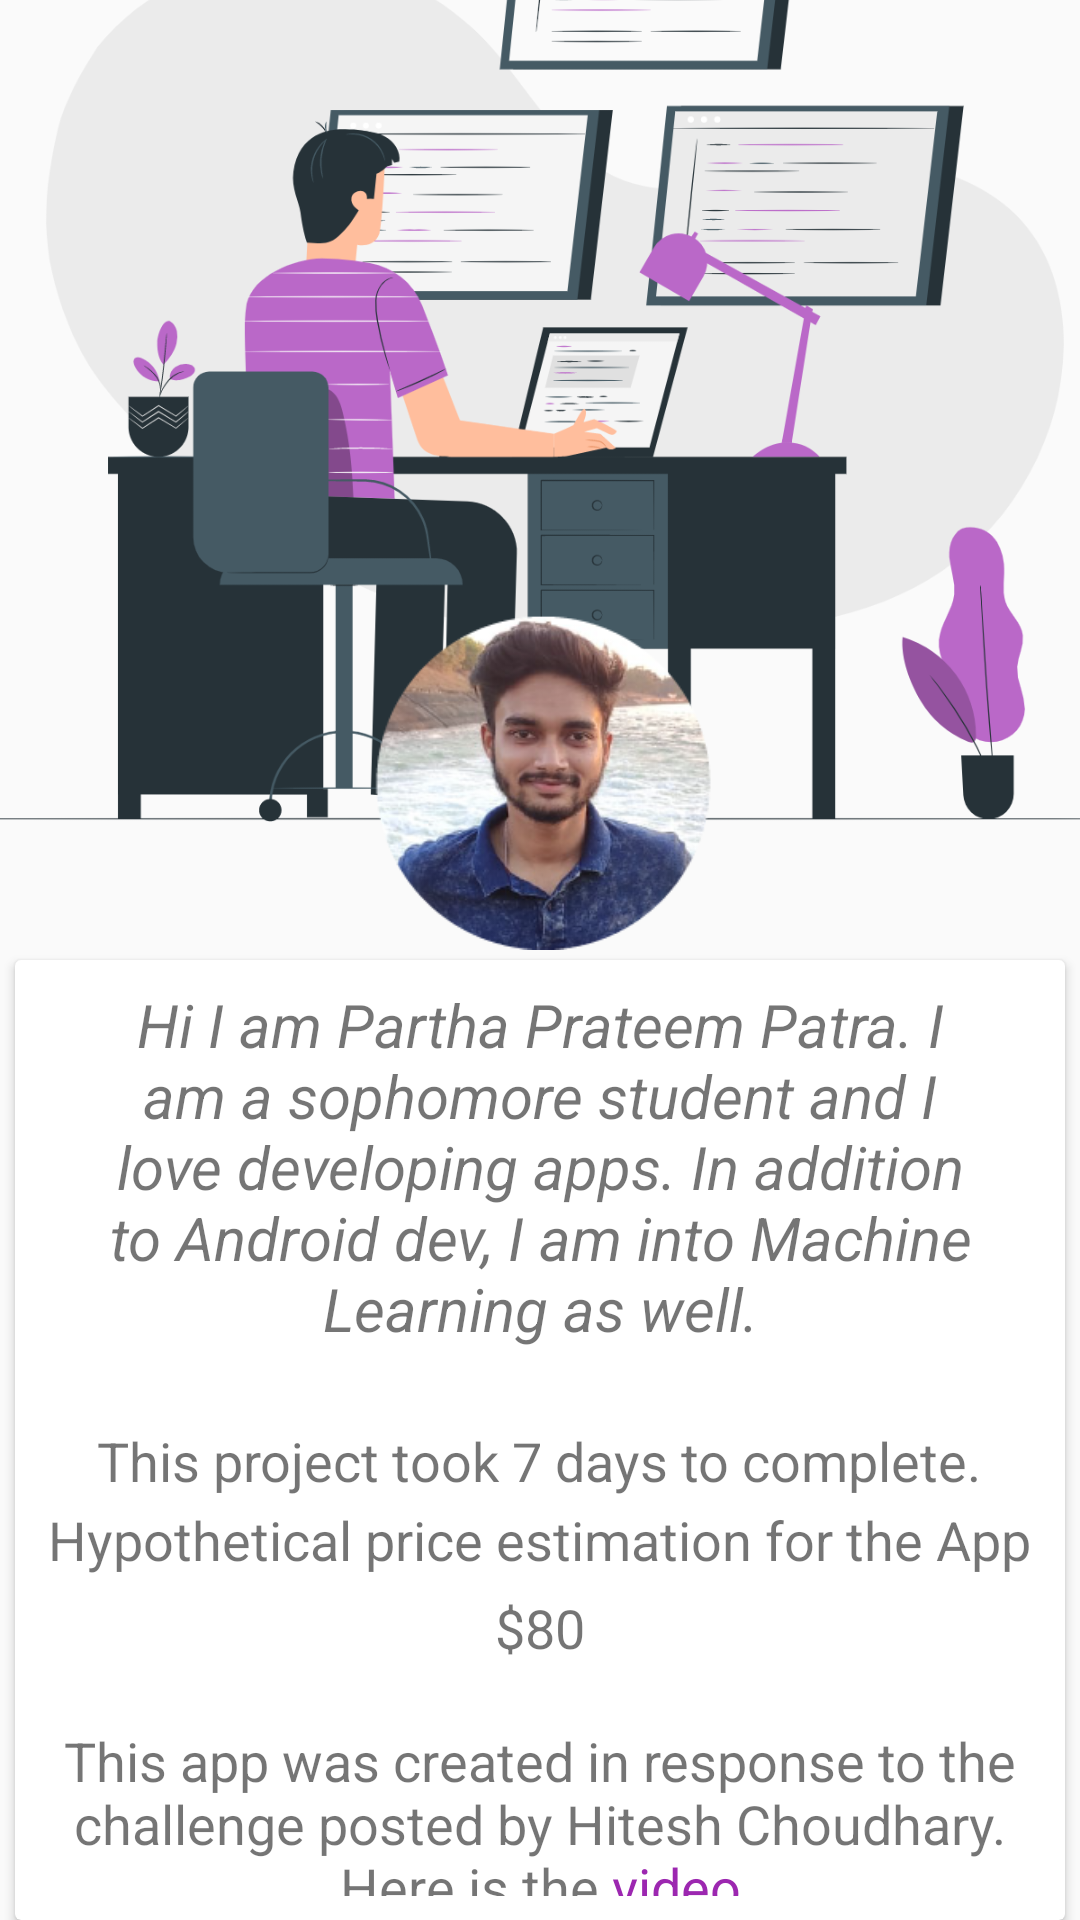

Icon click points for this 1080*1920 phone screenshot, format (x=x, y=y):
profile round: (x=540, y=775)
